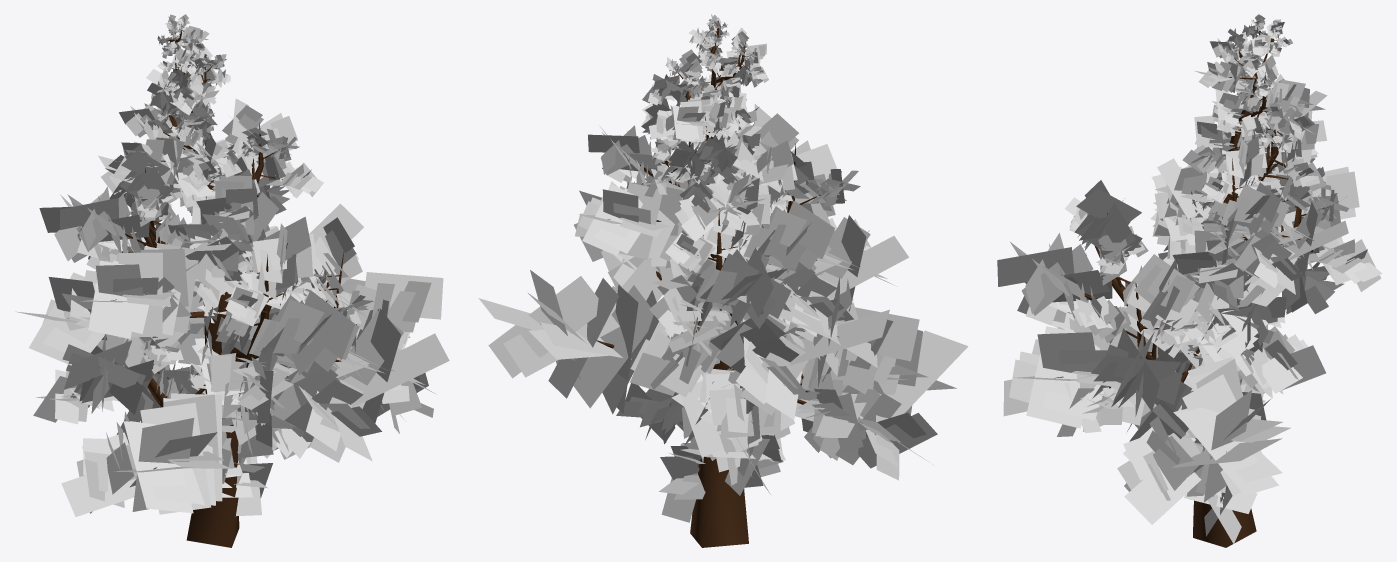
The model's file is koks3mesh.fbx.
The picture shows the model from 3 angles, left to right: view 1: azimuth 30°, elevation 25°; view 2: azimuth 150°, elevation 25°; view 3: azimuth 270°, elevation 25°; orthographic projection. The views are drawn at different scales.
Visible parts, largest first — view 1: Koks2.005; view 2: Koks2.005; view 3: Koks2.005.
Boxes of the visible parts, x1,y1,x2,y2 form: Koks2.005: (15,14,449,547); Koks2.005: (478,14,968,547); Koks2.005: (997,14,1382,547).
Size of the model in its own units: 28.38 by 35.15 by 23.76.
